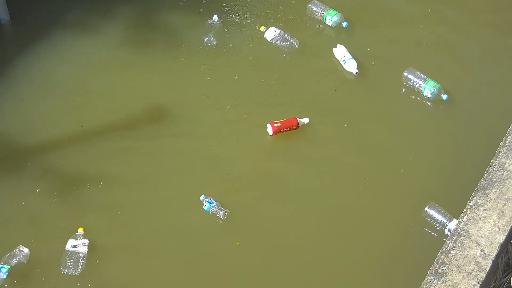plastic: (394, 59, 461, 115), (410, 198, 471, 250), (249, 110, 328, 142), (193, 10, 249, 54), (189, 189, 242, 232), (57, 224, 94, 282), (293, 0, 355, 32), (254, 17, 308, 52), (324, 40, 363, 78), (0, 247, 26, 282)
